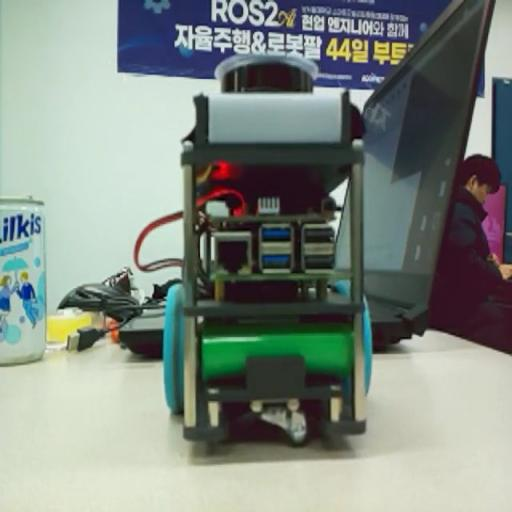pinky_63: (135, 46, 384, 445)
